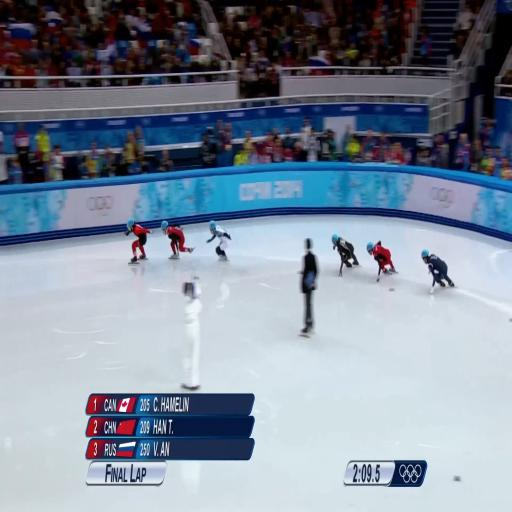Skater: (422, 249, 454, 294), (161, 221, 194, 259), (367, 241, 397, 282), (125, 220, 152, 263), (332, 235, 358, 276), (207, 221, 231, 260)
